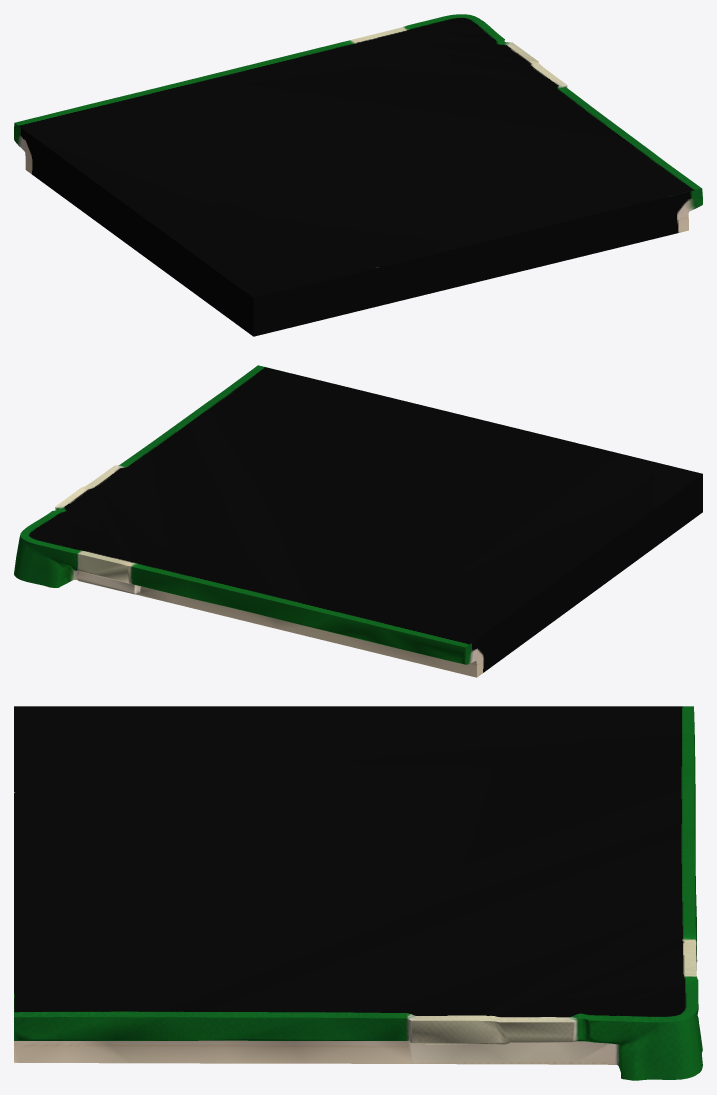
File: 12-roof-back-right.fbx
The picture shows the model from 3 angles, top to bottom: view 1: azimuth 30°, elevation 25°; view 2: azimuth 150°, elevation 25°; view 3: azimuth 270°, elevation 25°; orthographic projection. The views are drawn at different scales.
Visible parts, largest first — view 1: roof-back-right; view 2: roof-back-right; view 3: roof-back-right.
Boxes of the visible parts, left/top/right/bottom form: roof-back-right: left=14, top=14, right=702, bottom=336; roof-back-right: left=14, top=365, right=702, bottom=677; roof-back-right: left=14, top=706, right=702, bottom=1080.
Bounding box in the file's own units: 9071 × 728 × 8264.
1 material, 1 textured.
